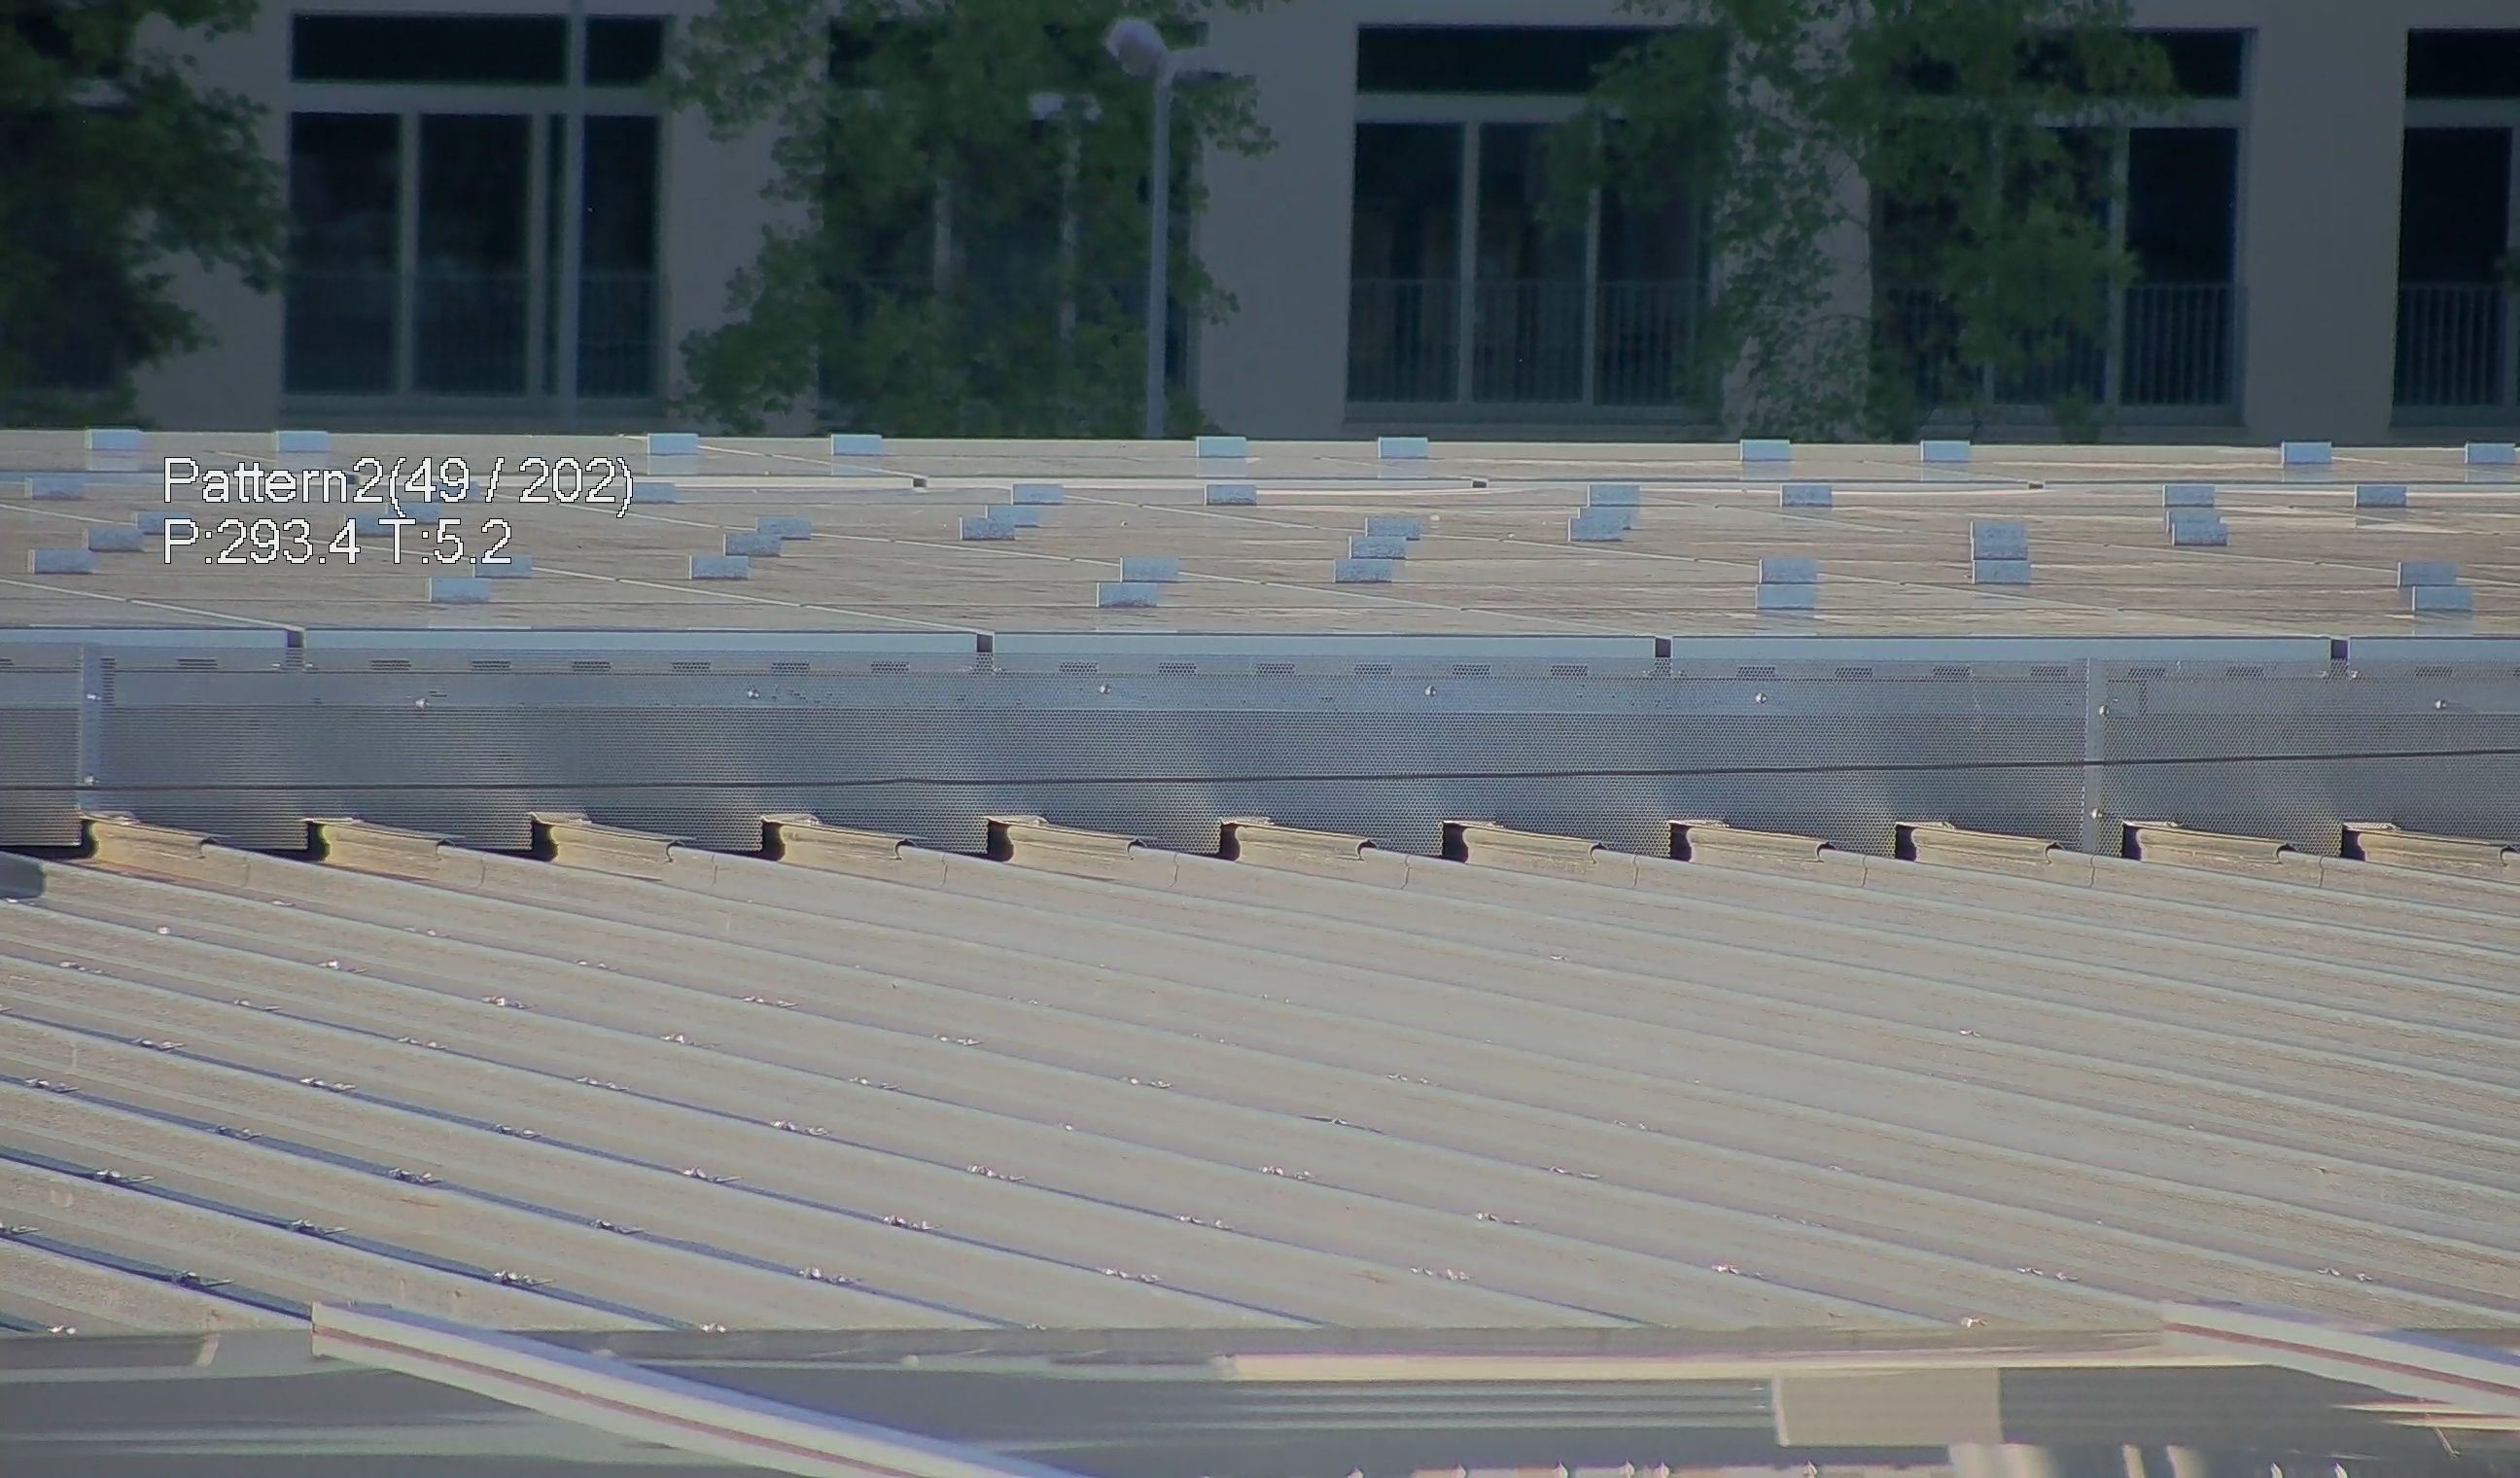Other: (492, 806, 550, 864)
